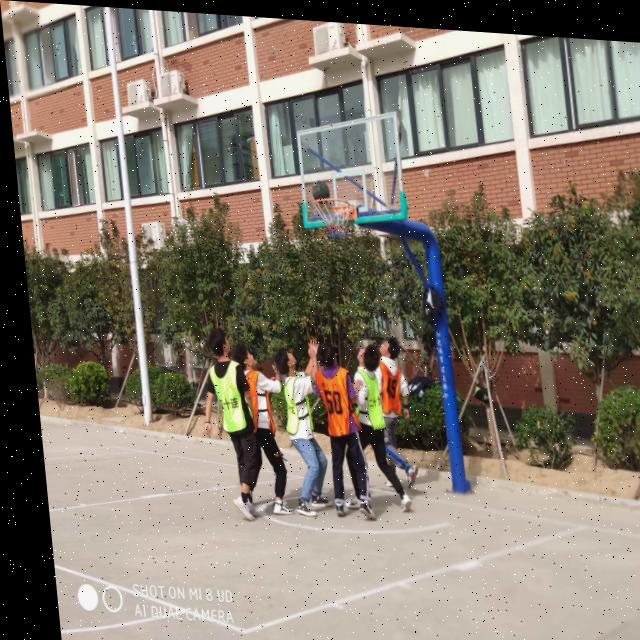basketball: (311, 179, 331, 205)
hoop: (313, 198, 355, 241)
